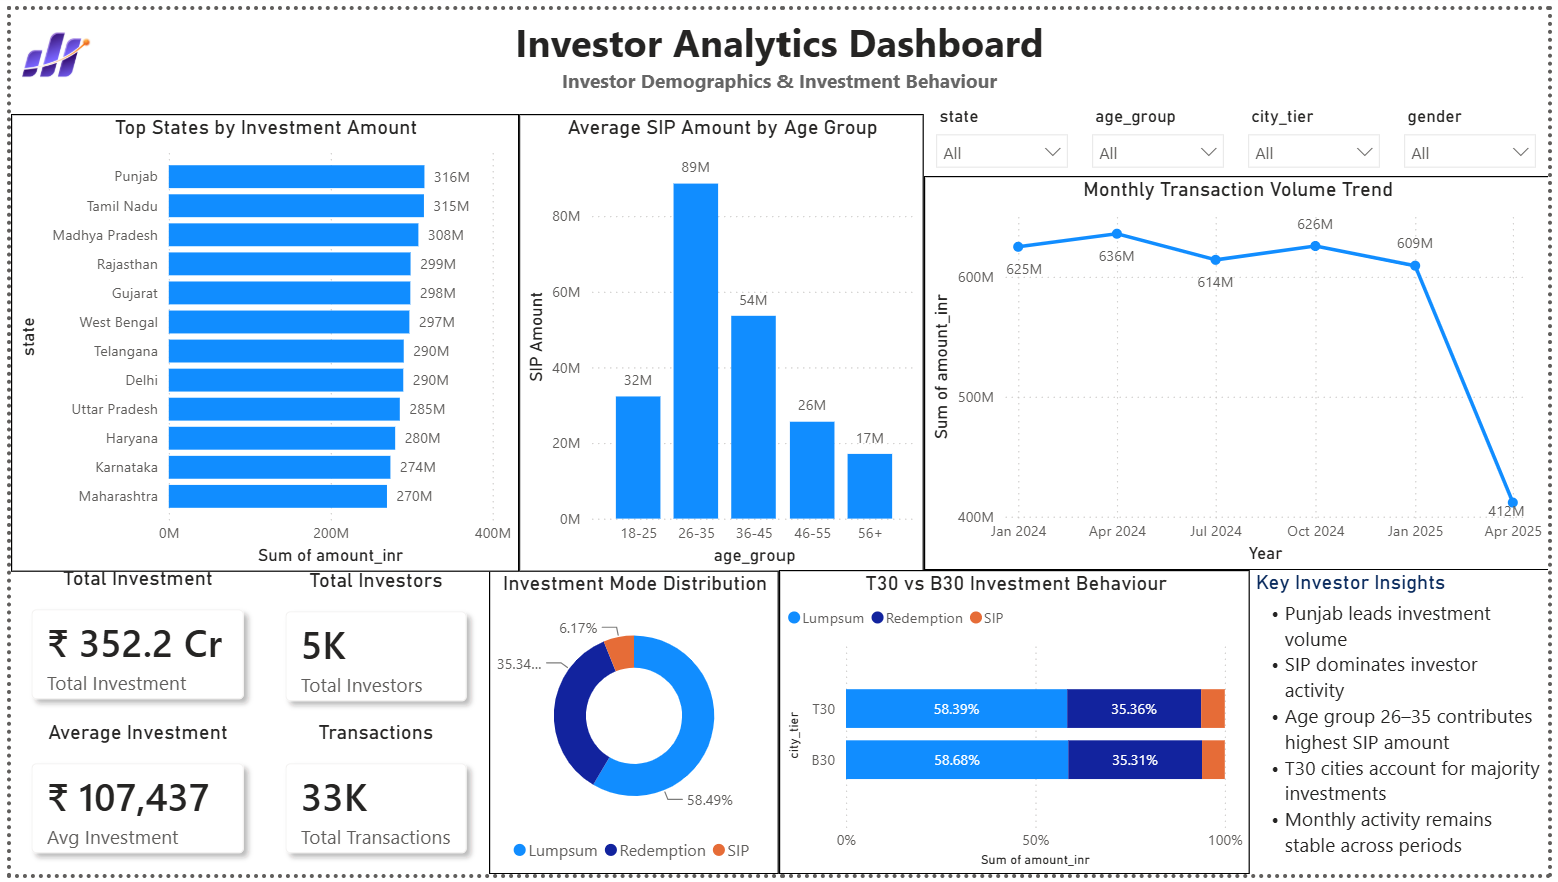

The page's visual inventory and layout, read from the dashboard file:
{"tool":"powerbi","page":{"name":"Investor Analytics","canvas":[1280,720],"ordinal":2},"visuals":[{"type":"textbox","box":[388.3,0,503.3,75],"z":0},{"type":"slicer","fields":{"Values":["08_investor_transactions.state"]},"box":[760,75,130,63.3],"z":0,"group":"g1"},{"type":"group","id":"g1","title":"Group 1","box":[760,75,520,63.3],"z":1000},{"type":"slicer","fields":{"Values":["08_investor_transactions.age_group"]},"box":[890,75,130,63.3],"z":1000,"group":"g1"},{"type":"slicer","fields":{"Values":["08_investor_transactions.city_tier"]},"box":[1020,75,130,63.3],"z":2000,"group":"g1"},{"type":"cardVisual","title":"Transactions","fields":{"Data":["08_investor_transactions.Total Transactions"]},"box":[211.7,591.7,185,128.3],"z":2000},{"type":"slicer","fields":{"Values":["08_investor_transactions.gender"]},"box":[1150,75,130,63.3],"z":3000,"group":"g1"},{"type":"cardVisual","title":"Average Investment","fields":{"Data":["08_investor_transactions.Avg Investment"]},"box":[0,591.7,211.7,128.3],"z":3000},{"type":"cardVisual","title":"Total Investors","fields":{"Data":["08_investor_transactions.Total Investors"]},"box":[211.7,465,185,128.3],"z":4000},{"type":"donutChart","title":"Investment Mode Distribution","fields":{"Category":["08_investor_transactions.transaction_type"],"Y":["Sum(08_investor_transactions.amount_inr)"]},"box":[398.3,466.7,241.7,253.3],"z":5000},{"type":"cardVisual","title":"Total Investment","fields":{"Data":["08_investor_transactions.Total Investment"]},"box":[0,463.3,211.7,128.3],"z":6000},{"type":"clusteredColumnChart","title":"Average SIP Amount by Age Group","fields":{"Category":["08_investor_transactions.age_group"],"Y":["08_investor_transactions.SIP Amount"]},"box":[423.3,86.7,336.7,381.7],"z":7000},{"type":"lineChart","title":"Monthly Transaction Volume Trend","fields":{"Category":["08_investor_transactions.transaction_date.Variation.Date Hierarchy.Year","08_investor_transactions.transaction_date.Variation.Date Hierarchy.Quarter","08_investor_transactions.transaction_date.Variation.Date Hierarchy.Month","08_investor_transactions.transaction_date.Variation.Date Hierarchy.Day"],"Y":["Sum(08_investor_transactions.amount_inr)"]},"box":[760,138.3,521.7,328.3],"z":8000},{"type":"hundredPercentStackedBarChart","title":"T30 vs B30 Investment Behaviour","fields":{"Category":["08_investor_transactions.city_tier"],"Y":["Sum(08_investor_transactions.amount_inr)"],"Series":["08_investor_transactions.transaction_type"]},"box":[640,466.7,391.7,253.3],"z":9000},{"type":"clusteredBarChart","title":"Top States by Investment Amount","fields":{"Category":["08_investor_transactions.state"],"Y":["Sum(08_investor_transactions.amount_inr)"]},"box":[0,86.7,423.3,381.7],"z":10000},{"type":"textbox","title":"Key Investor Insights","box":[1031.7,466.7,248.3,253.3],"z":11000},{"type":"image","box":[0,0,74.6,75],"z":11001}]}

Visuals, with their boxes in screenshot pixels (x1, y1, x2, y2), scaled from the page's 1280x720 canvas onto the 1558x882 screenshot:
textbox: region(473, 0, 1085, 92)
slicer - 08_investor_transactions.state: region(925, 92, 1083, 169)
"Group 1" group: region(925, 92, 1557, 169)
slicer - 08_investor_transactions.age_group: region(1083, 92, 1242, 169)
slicer - 08_investor_transactions.city_tier: region(1242, 92, 1400, 169)
"Transactions" cardVisual: region(258, 725, 483, 881)
slicer - 08_investor_transactions.gender: region(1400, 92, 1557, 169)
"Average Investment" cardVisual: region(0, 725, 258, 881)
"Total Investors" cardVisual: region(258, 570, 483, 727)
"Investment Mode Distribution" donutChart: region(485, 572, 779, 881)
"Total Investment" cardVisual: region(0, 568, 258, 725)
"Average SIP Amount by Age Group" clusteredColumnChart: region(515, 106, 925, 574)
"Monthly Transaction Volume Trend" lineChart: region(925, 169, 1557, 572)
"T30 vs B30 Investment Behaviour" hundredPercentStackedBarChart: region(779, 572, 1256, 881)
"Top States by Investment Amount" clusteredBarChart: region(0, 106, 515, 574)
"Key Investor Insights" textbox: region(1256, 572, 1557, 881)
image: region(0, 0, 91, 92)
